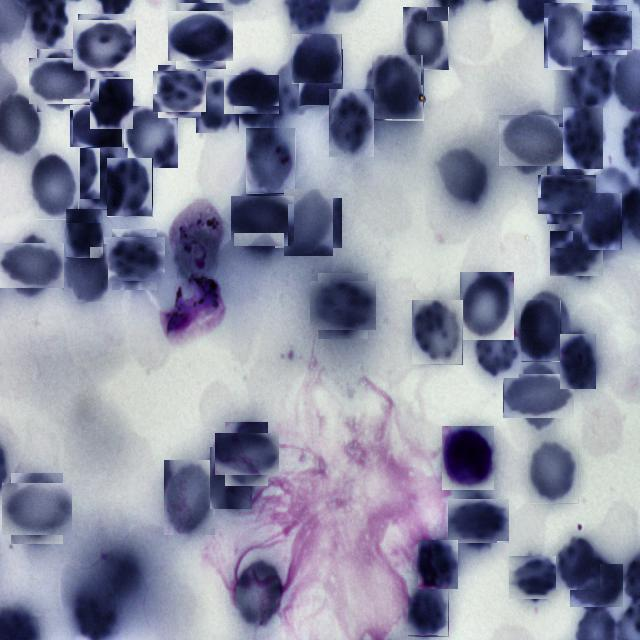leukocyte: (442, 426, 494, 490)
red blood cell: (6, 478, 68, 540), (164, 460, 215, 535), (504, 110, 564, 172), (460, 272, 514, 340), (372, 54, 424, 120), (279, 194, 338, 252), (510, 368, 568, 426), (172, 7, 230, 65), (314, 277, 372, 335), (124, 106, 178, 168), (30, 152, 79, 220), (544, 3, 593, 71), (528, 439, 579, 504), (412, 300, 463, 365), (438, 143, 489, 208), (75, 17, 133, 74), (234, 192, 292, 249), (246, 128, 296, 194), (235, 560, 283, 626), (3, 238, 59, 294), (329, 89, 374, 157), (80, 148, 128, 210), (33, 53, 87, 108), (403, 7, 449, 70), (452, 495, 505, 548), (108, 233, 161, 286), (220, 428, 274, 480), (107, 158, 153, 217), (474, 320, 519, 378), (210, 447, 252, 509), (64, 244, 108, 302), (298, 49, 342, 106), (542, 170, 592, 220), (292, 34, 342, 84), (521, 300, 561, 362), (563, 107, 603, 169), (194, 77, 238, 133), (552, 229, 602, 278), (512, 553, 560, 602), (556, 537, 600, 590), (227, 70, 275, 118), (572, 561, 620, 609), (72, 102, 120, 150), (582, 193, 622, 250), (90, 79, 134, 130), (156, 68, 202, 116), (572, 57, 614, 109), (408, 588, 449, 637), (560, 334, 596, 389), (585, 8, 630, 52), (418, 540, 458, 589), (66, 209, 104, 259)
ring: (170, 200, 224, 278)
trophozoite: (162, 276, 224, 348)
